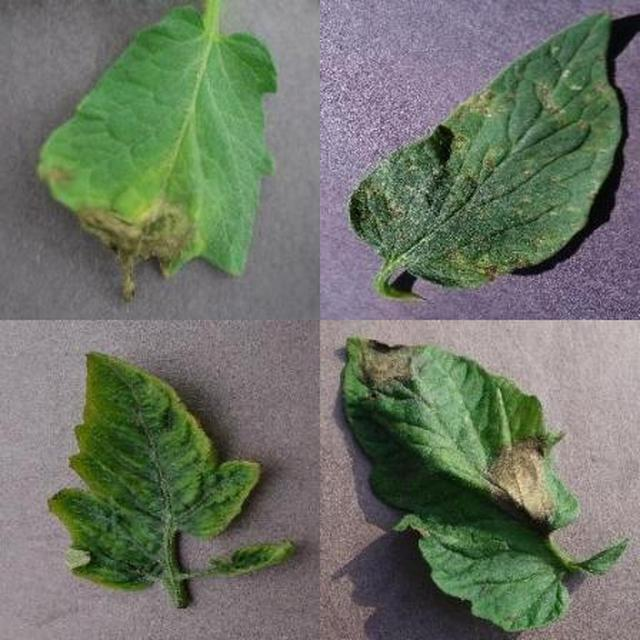Late Blight Leaf: (126, 56, 640, 640)
